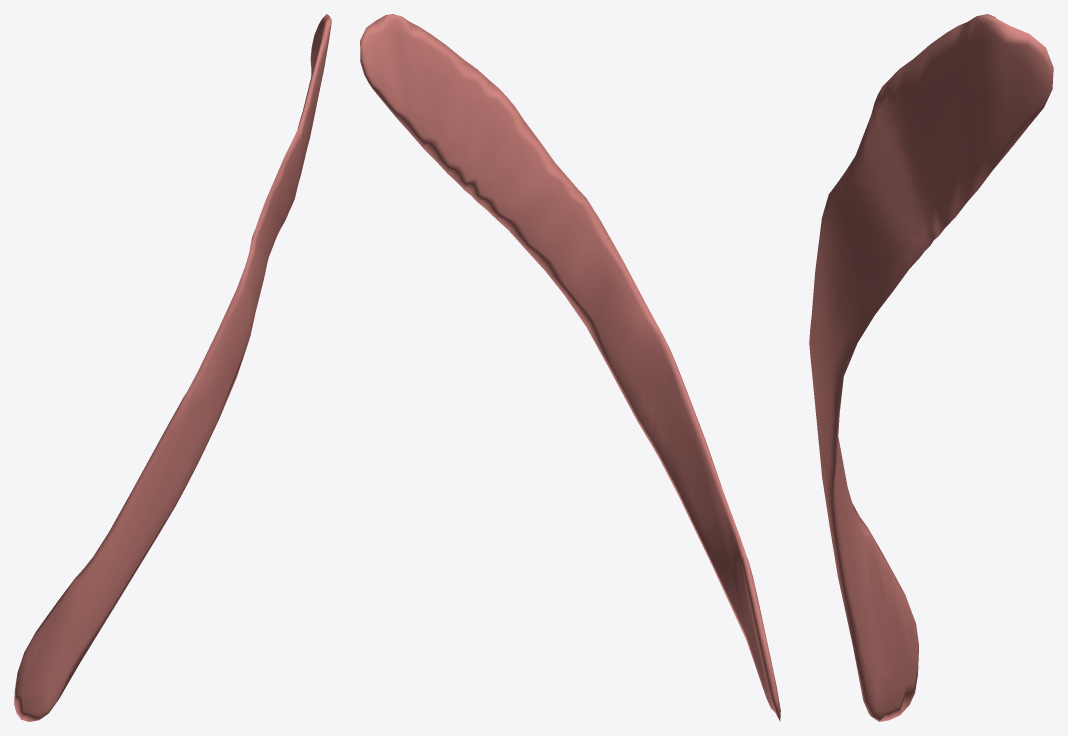
3 views of the same model, side by side, from view 1: azimuth 30°, elevation 25°; view 2: azimuth 150°, elevation 25°; view 3: azimuth 270°, elevation 25° (orthographic). The views are drawn at different scales.
Visible parts, largest first — view 1: ZA_9c96114d05daef38; view 2: ZA_9c96114d05daef38; view 3: ZA_9c96114d05daef38.
Part boxes in pixels (<box>): ZA_9c96114d05daef38: <box>14,14,331,721</box>; ZA_9c96114d05daef38: <box>360,14,780,721</box>; ZA_9c96114d05daef38: <box>809,14,1053,721</box>.
Bounding box in the file's own units: 0.0241 × 0.0395 × 0.00907.
